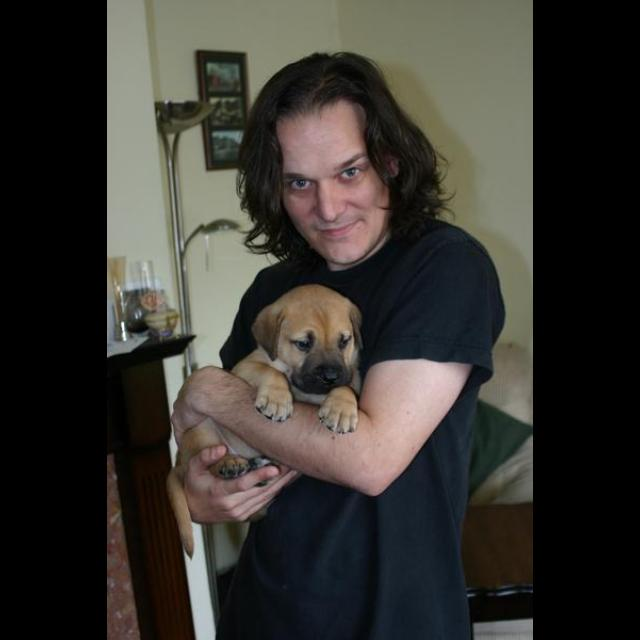bullmastiff: (166, 284, 366, 560)
face: (278, 101, 392, 266)
person: (170, 52, 508, 640)
